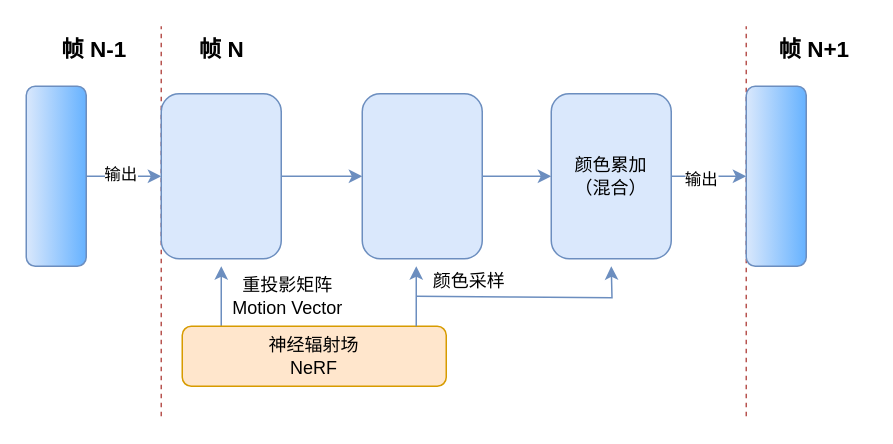
The diagram is 893 pixels wide and 444 high, and some of its shapes have lost their labels. The centre of each missing label's shape, as x and y in pixels:
"采样点修正" belongs at (x=421, y=175).
"重投影 （采样）" belongs at (x=220, y=175).
